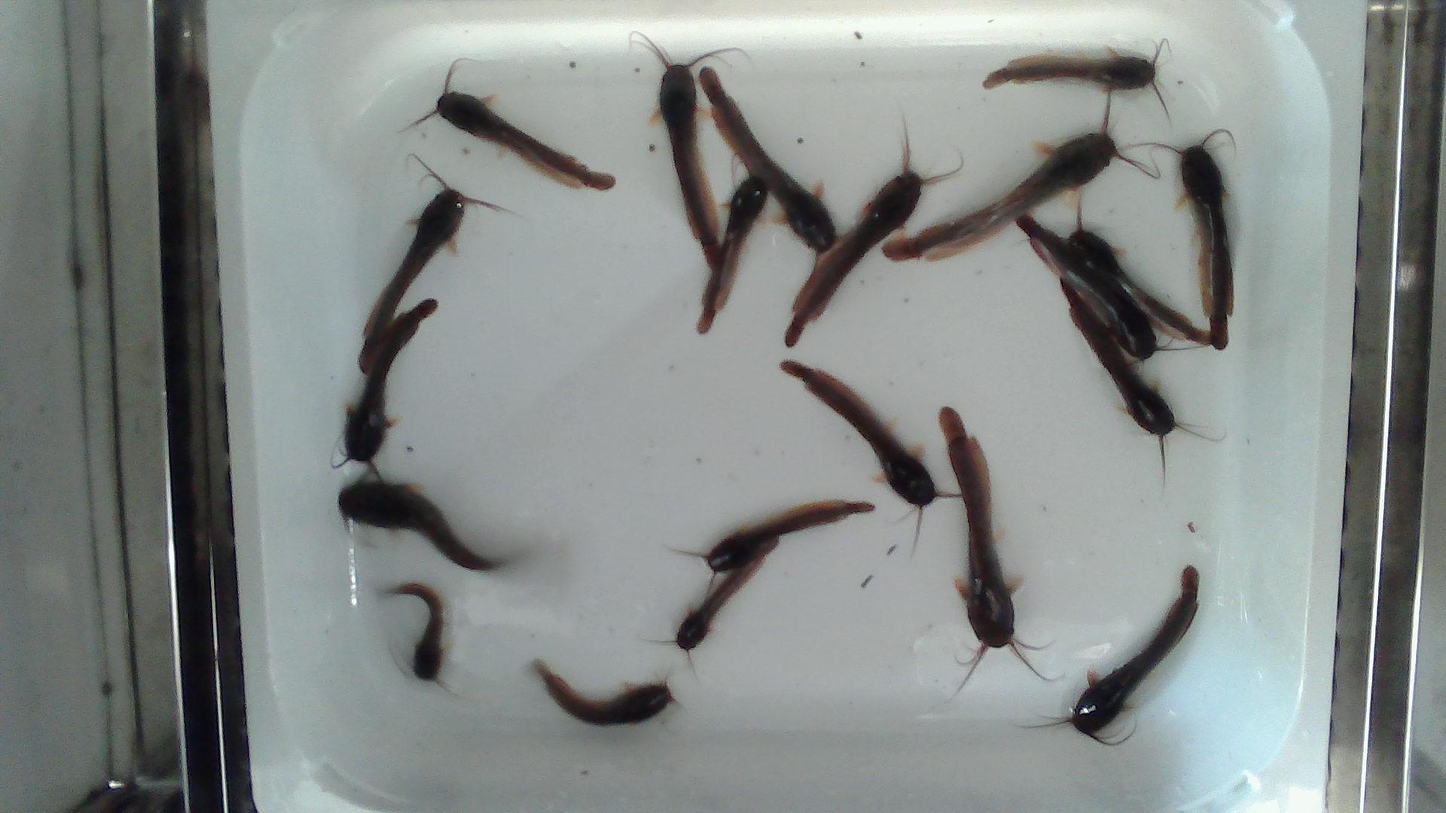lele: (882, 90, 1156, 260), (785, 122, 957, 347), (938, 406, 1049, 697), (358, 169, 502, 377), (630, 32, 744, 266), (700, 69, 837, 251), (1018, 215, 1188, 361), (1057, 189, 1210, 346), (781, 361, 937, 506), (1069, 566, 1197, 741), (681, 499, 875, 598), (334, 300, 437, 471), (436, 92, 615, 190), (1064, 284, 1177, 437), (339, 479, 499, 570), (664, 553, 766, 669), (1180, 145, 1233, 349), (700, 175, 767, 332), (534, 660, 673, 725), (983, 52, 1155, 90), (390, 583, 444, 680)
